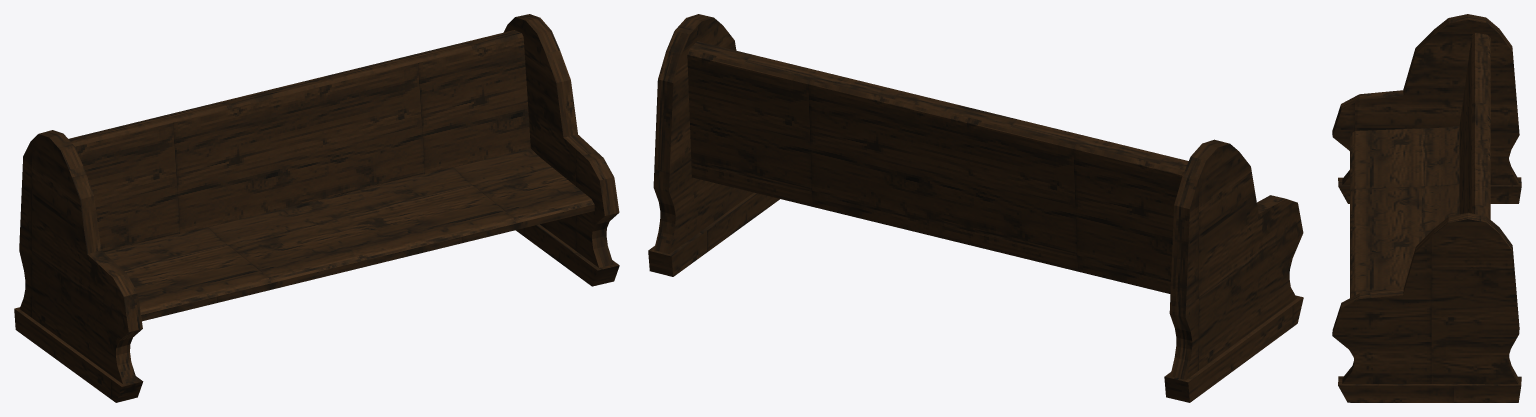
File: Silla.fbx
3 views of the same model, side by side, from view 1: azimuth 30°, elevation 25°; view 2: azimuth 150°, elevation 25°; view 3: azimuth 270°, elevation 25° (orthographic). The views are drawn at different scales.
Visible parts, largest first — view 1: Silla.003; view 2: Silla.003; view 3: Silla.003.
Part boxes in pixels (<box>): Silla.003: <box>14,14,619,402</box>; Silla.003: <box>648,14,1303,402</box>; Silla.003: <box>1332,14,1521,402</box>.
Size of the model in its own units: 338 by 138 by 130.
